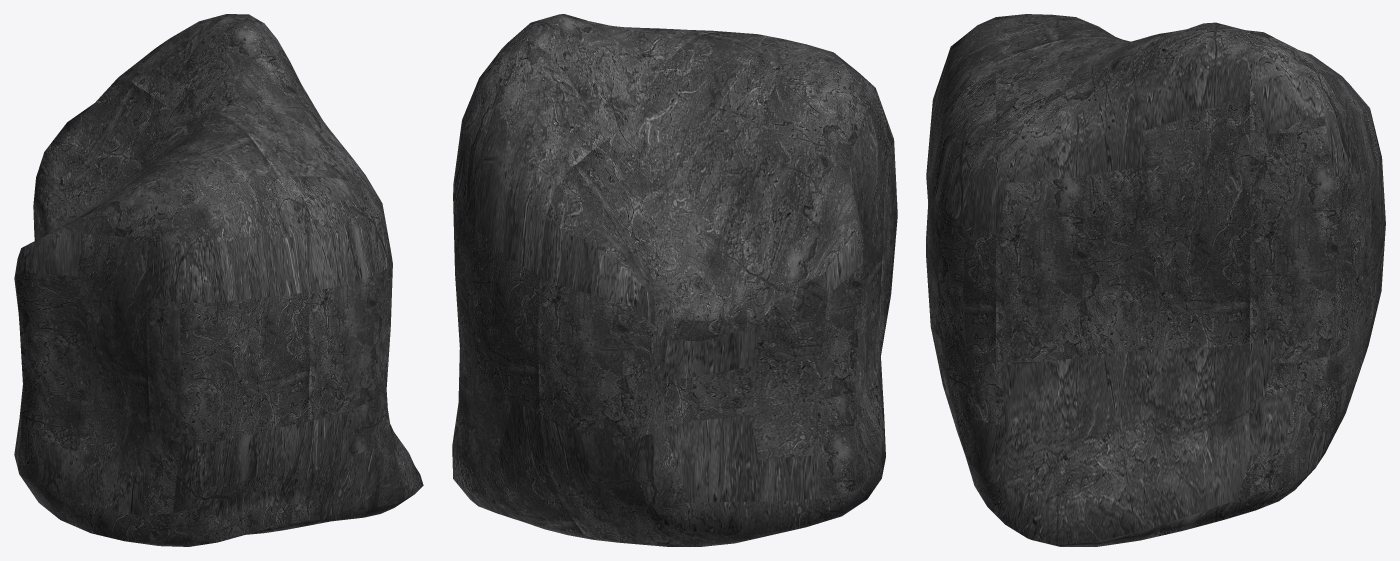
File: stone.fbx
The picture shows the model from 3 angles, left to right: view 1: azimuth 30°, elevation 25°; view 2: azimuth 150°, elevation 25°; view 3: azimuth 270°, elevation 25°; orthographic projection. The views are drawn at different scales.
Visible parts, largest first — view 1: Sphere16; view 2: Sphere16; view 3: Sphere16.
Boxes of the visible parts, left/top/right/bottom form: Sphere16: left=14, top=14, right=423, bottom=546; Sphere16: left=452, top=14, right=897, bottom=546; Sphere16: left=926, top=14, right=1385, bottom=546.
Size of the model in its own units: 49.03 by 57.54 by 49.95.
1 material, 1 textured.
